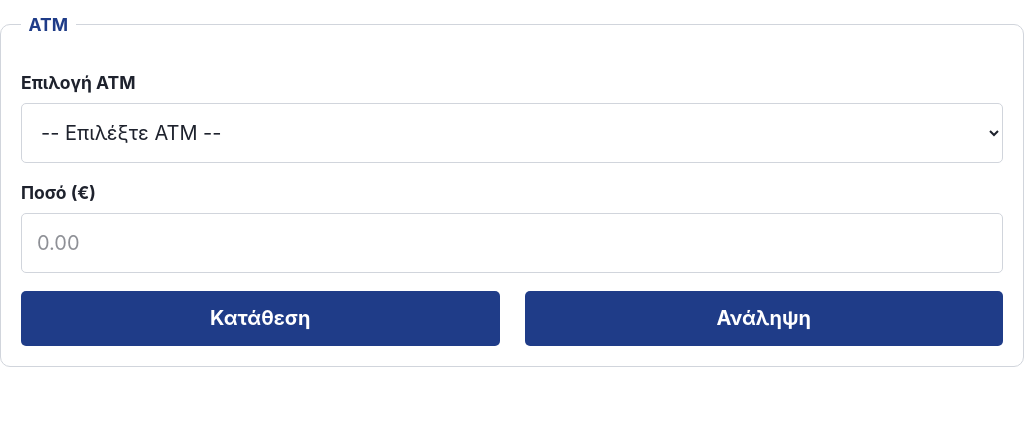
AtmForm › refuses a deposit with no amount
Select "Σύνταγμα" in the dropdown. click: coordinates (512, 132)
box: [21,102,1003,162]
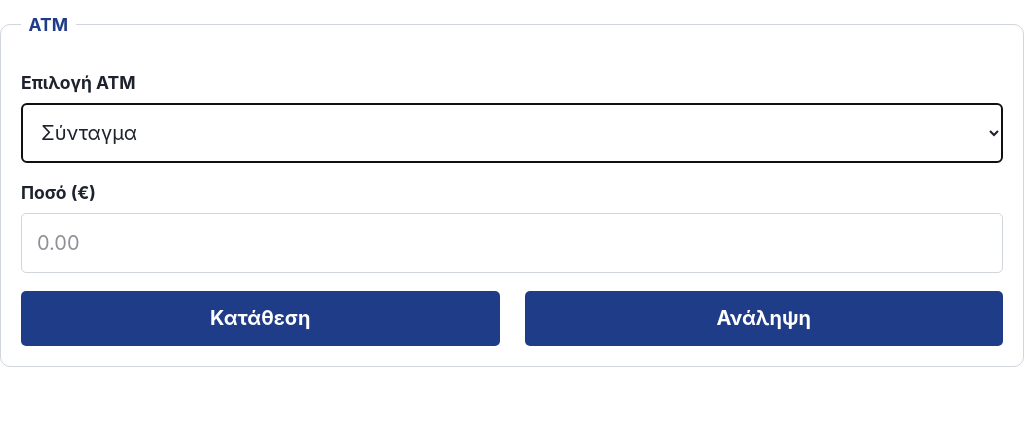
Click the button "Κατάθεση". click: coordinates (260, 318)
box: [21,290,500,346]
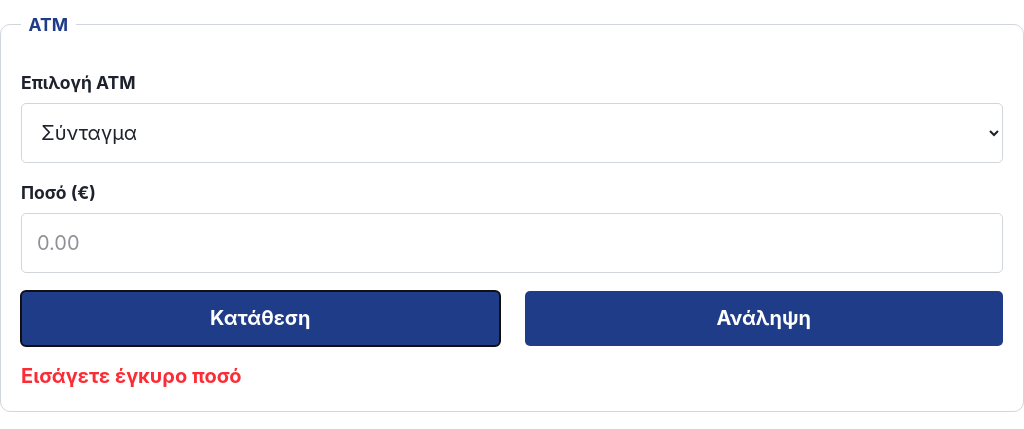
Check: the text "Εισάγετε έγκυρο ποσό" is shown, box [21,364,242,388]
